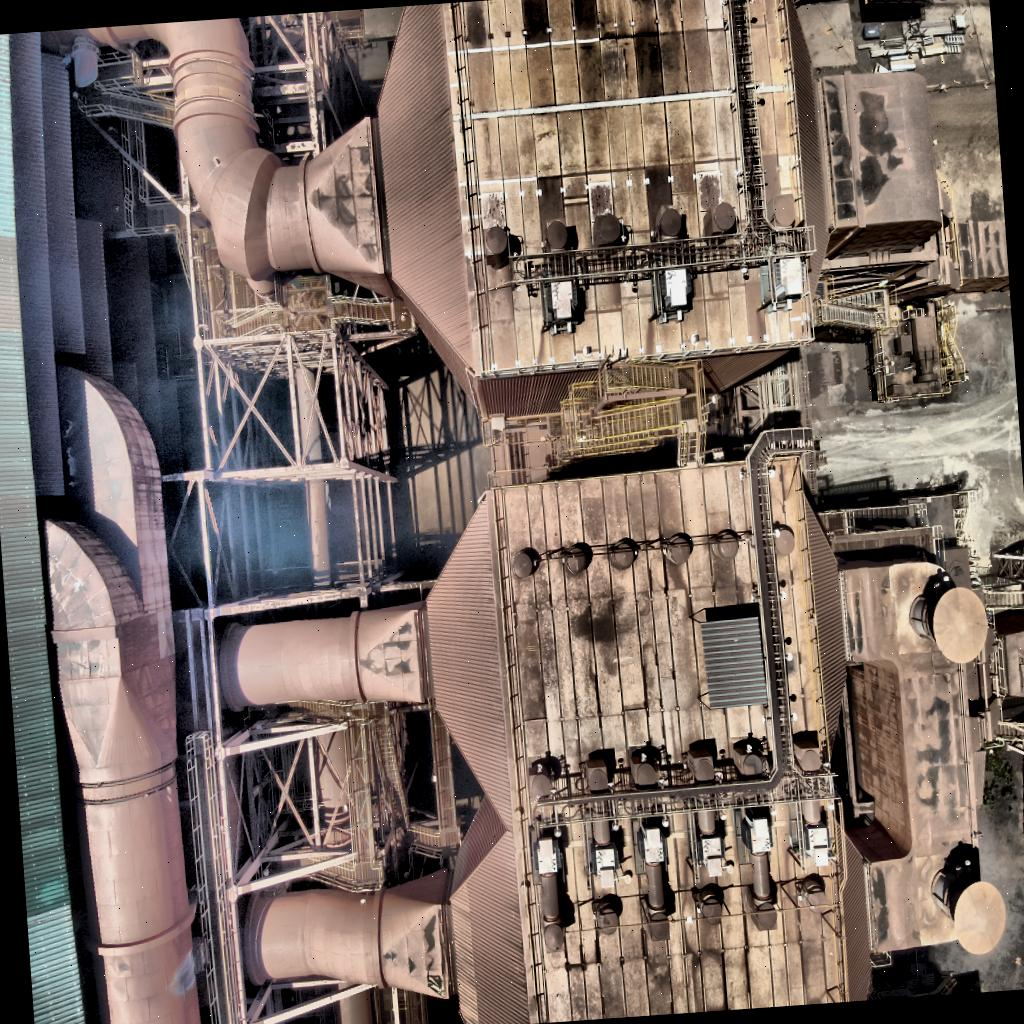Failures: (426, 970, 445, 999)
